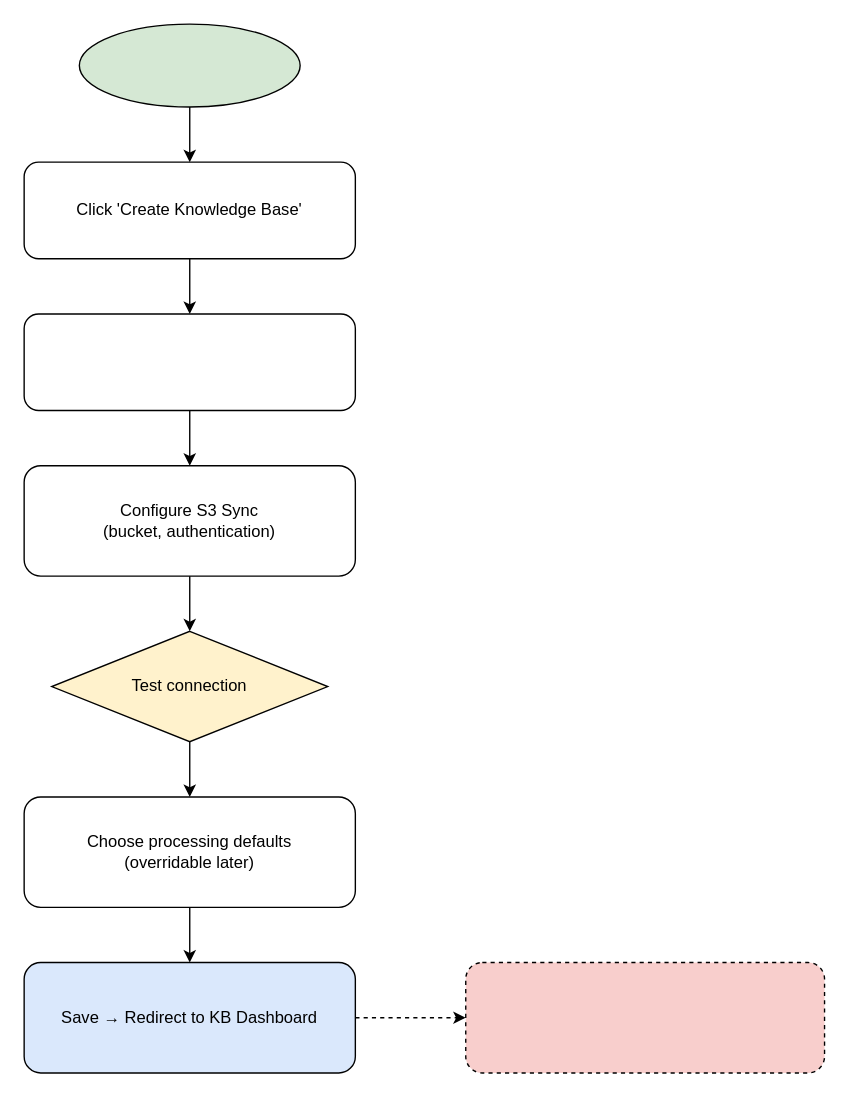
Some shapes in this 849 by 1097 pixel diagram are drawn without their labels. The centre of each missing label's shape, as x and y in pixels:
Background: Initial Sync Starts: point 644,1017
Enter name and description: point 189,362
Start: point 189,65
